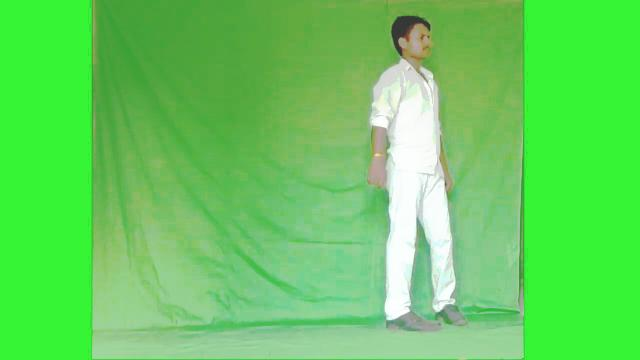berjalan: (362, 13, 471, 341)
